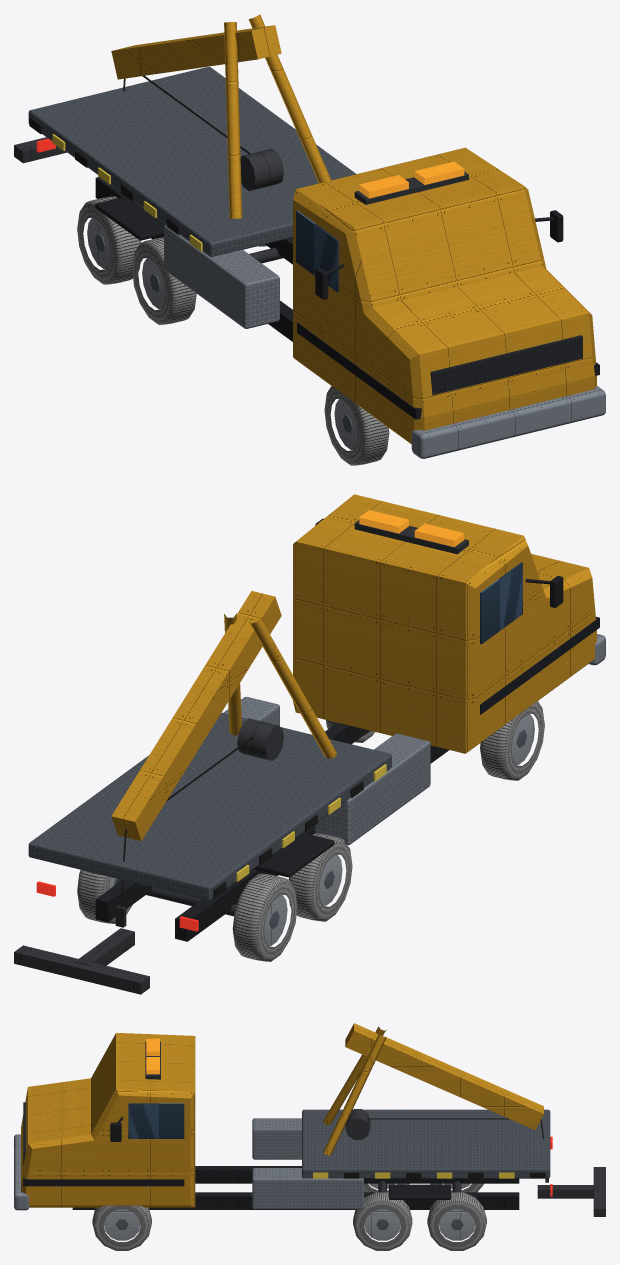
File: guincho.glb
3 views of the same model, one above another, from view 1: azimuth 30°, elevation 25°; view 2: azimuth 150°, elevation 25°; view 3: azimuth 270°, elevation 25° (orthographic). The views are drawn at different scales.
Visible parts, largest first — view 1: guincho_metal, guincho; view 2: guincho_metal, guincho; view 3: guincho_metal, guincho.
Boxes of the visible parts, x1,y1,x2,y2 form: guincho_metal: (14,14,605,458); guincho: (28,67,599,465); guincho_metal: (14,494,605,994); guincho: (28,510,599,961); guincho_metal: (14,1023,605,1240); guincho: (23,1038,552,1250).
Bounding box in the file's own units: 3.04 × 3.47 × 9.54.
Materials: 6 (4 with a texture image).
